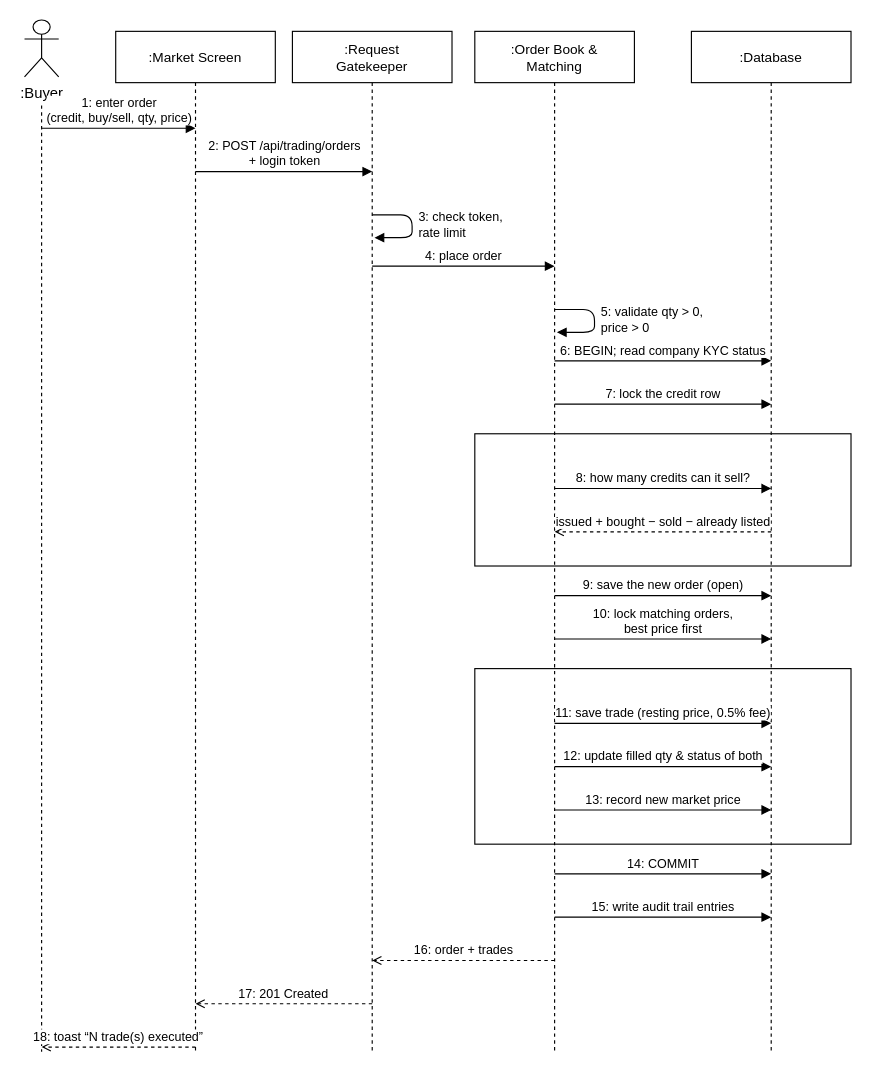
Image size: 871x1076. Some labels were removed from this diagram. Each missing label, with the centre of its shape:
alt [selling]: [662,499]
loop [quantity left and prices cross]: [662,755]
